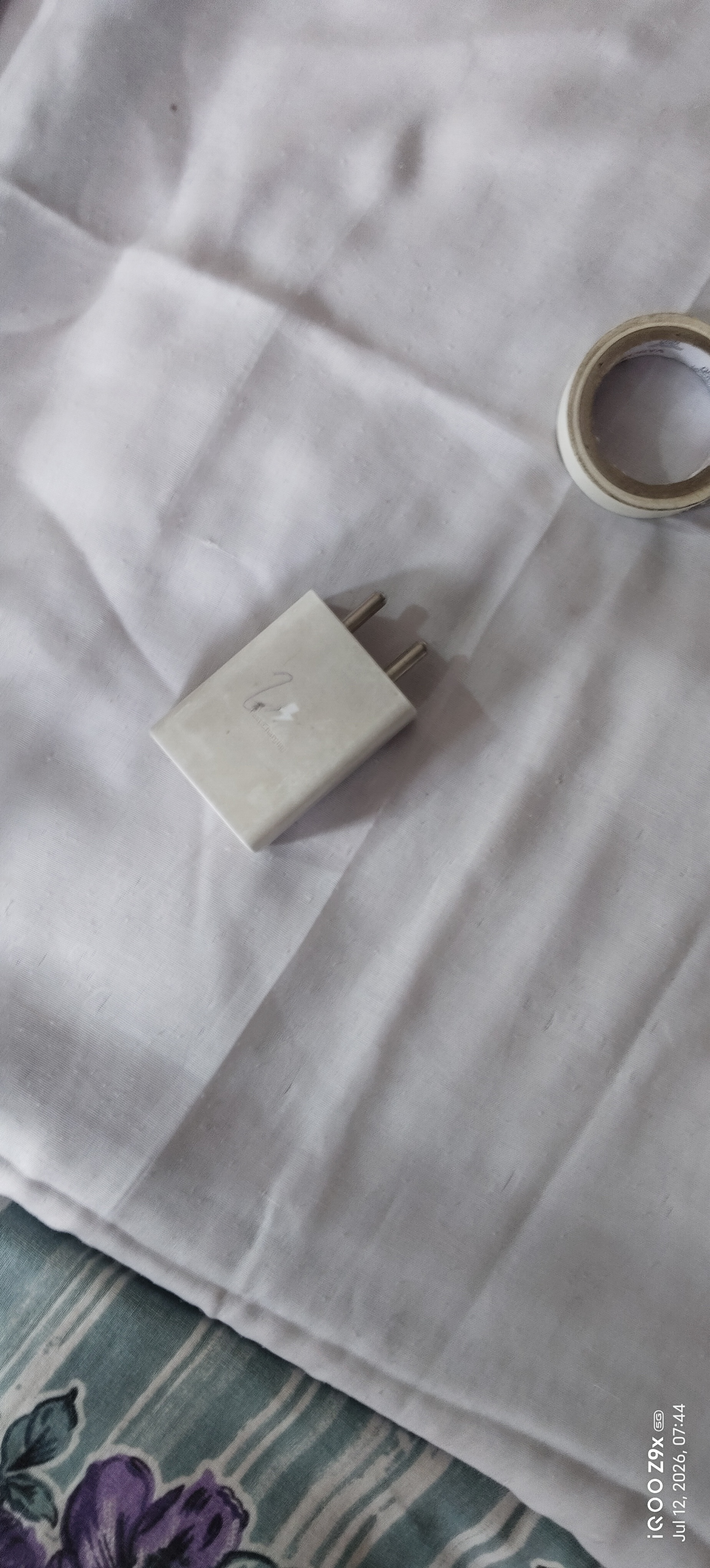charger: (113, 562, 461, 852)
tape_roll: (519, 270, 710, 554)
